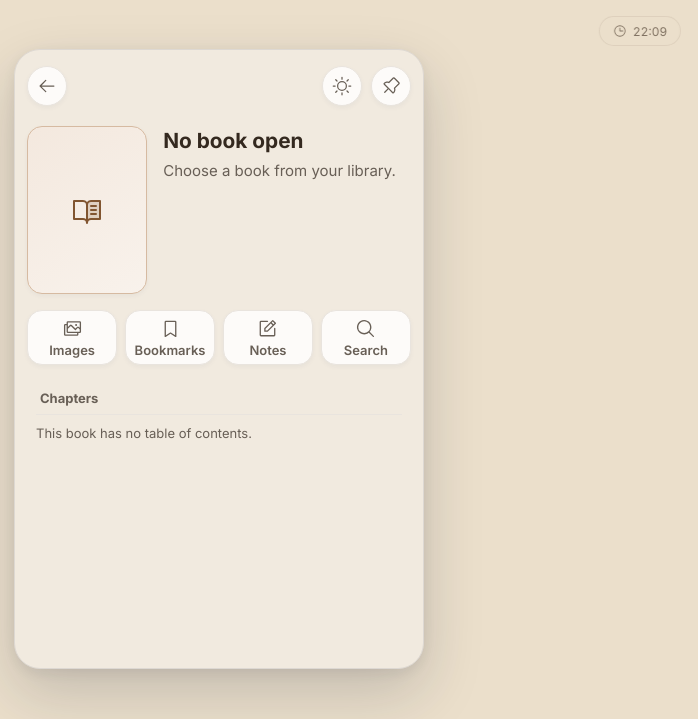
Reader bookmarks › deduplicates the same place and keeps unresolved bookmarks manageable without moving focus
Click the button "Bookmarks": (170, 338) [125,310,215,365]
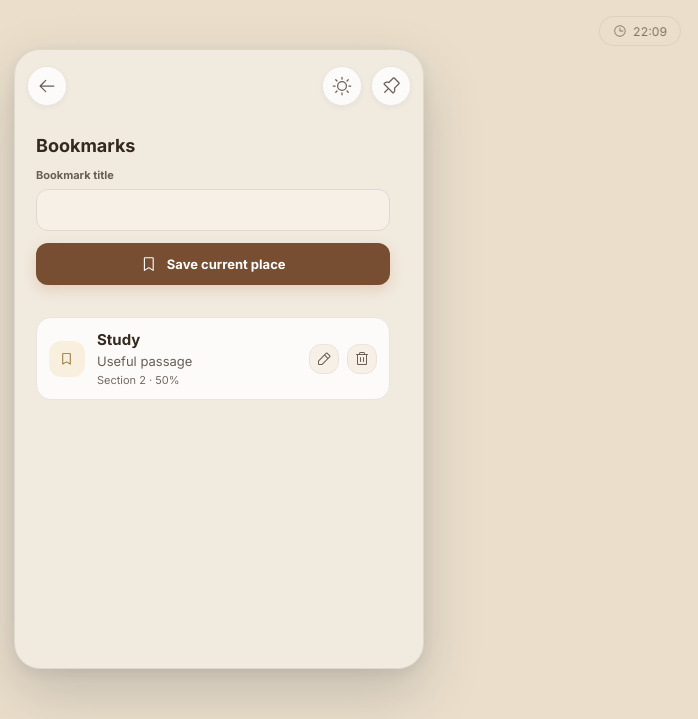
Click the button "Save current place": (213, 264) [36,243,390,285]
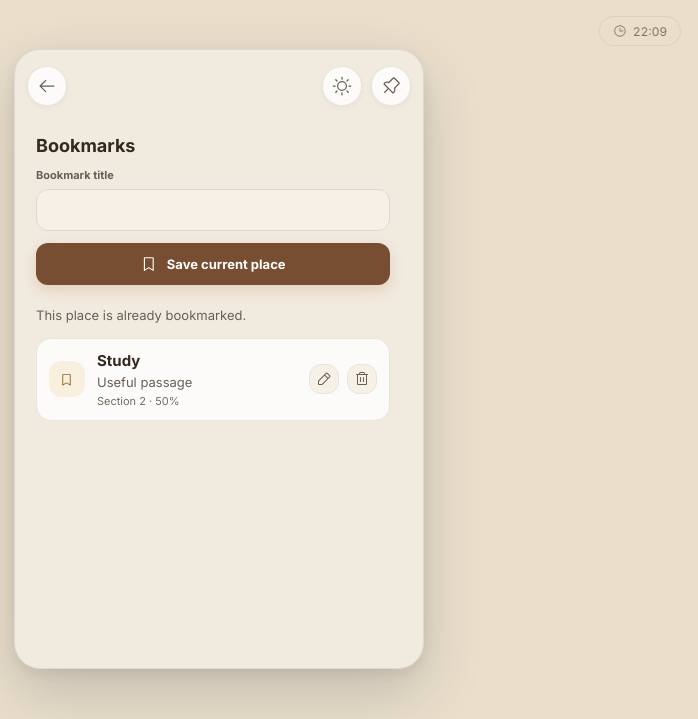
Now the number of buttons named "Jump to" is 1
Now the text "This place is already bookmarked." is shown, box [36,307,246,323]
Click the button with aria-label "Jump to Study": (175, 380) [49,351,301,408]
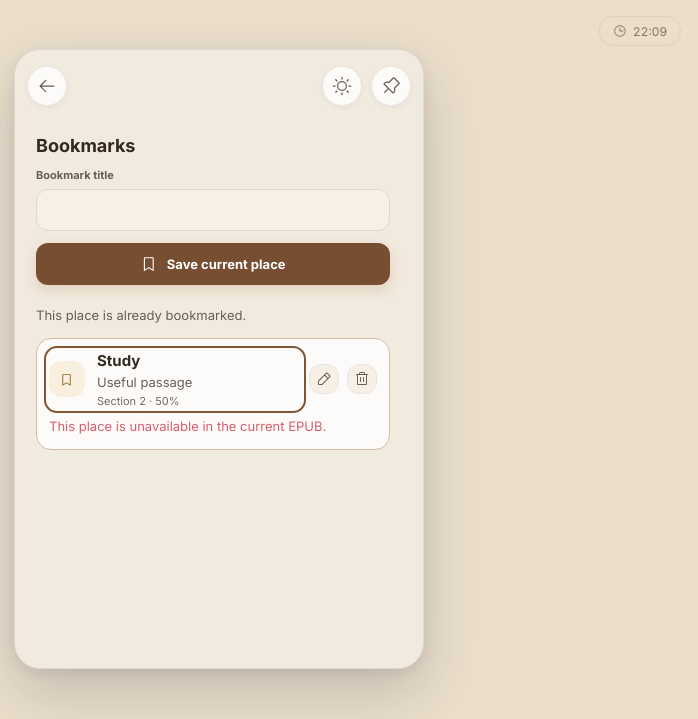
Now the button named "Remove Study" is enabled, box [347,364,377,394]
Now the message "This place is unavailable in the current EPUB." is shown, box [49,418,326,434]
